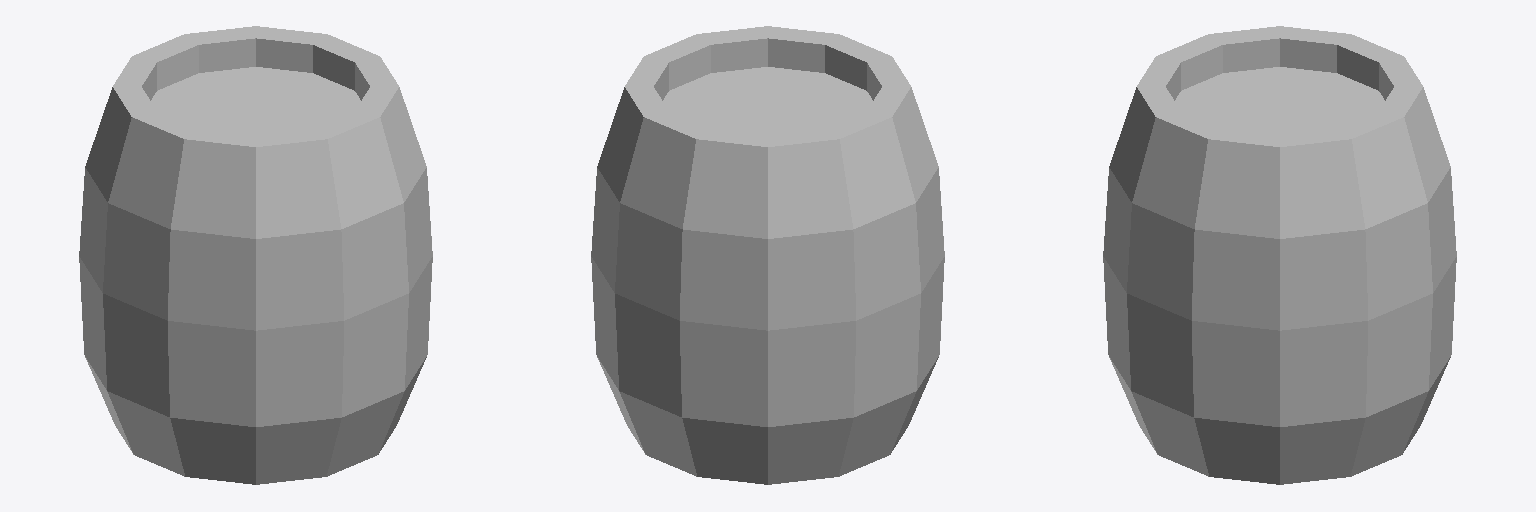
Rendered from Crate.obj.
3 views of the same model, side by side, from view 1: azimuth 30°, elevation 25°; view 2: azimuth 150°, elevation 25°; view 3: azimuth 270°, elevation 25° (orthographic).
Parts seen in each view (by area): view 1: Cylinder; view 2: Cylinder; view 3: Cylinder.
Boxes of the visible parts, x1=… form: Cylinder: x1=79, y1=26, x2=432, y2=484; Cylinder: x1=591, y1=26, x2=944, y2=484; Cylinder: x1=1103, y1=26, x2=1456, y2=484.
Size of the model in its own units: 0.3894 by 0.4114 by 0.3894.